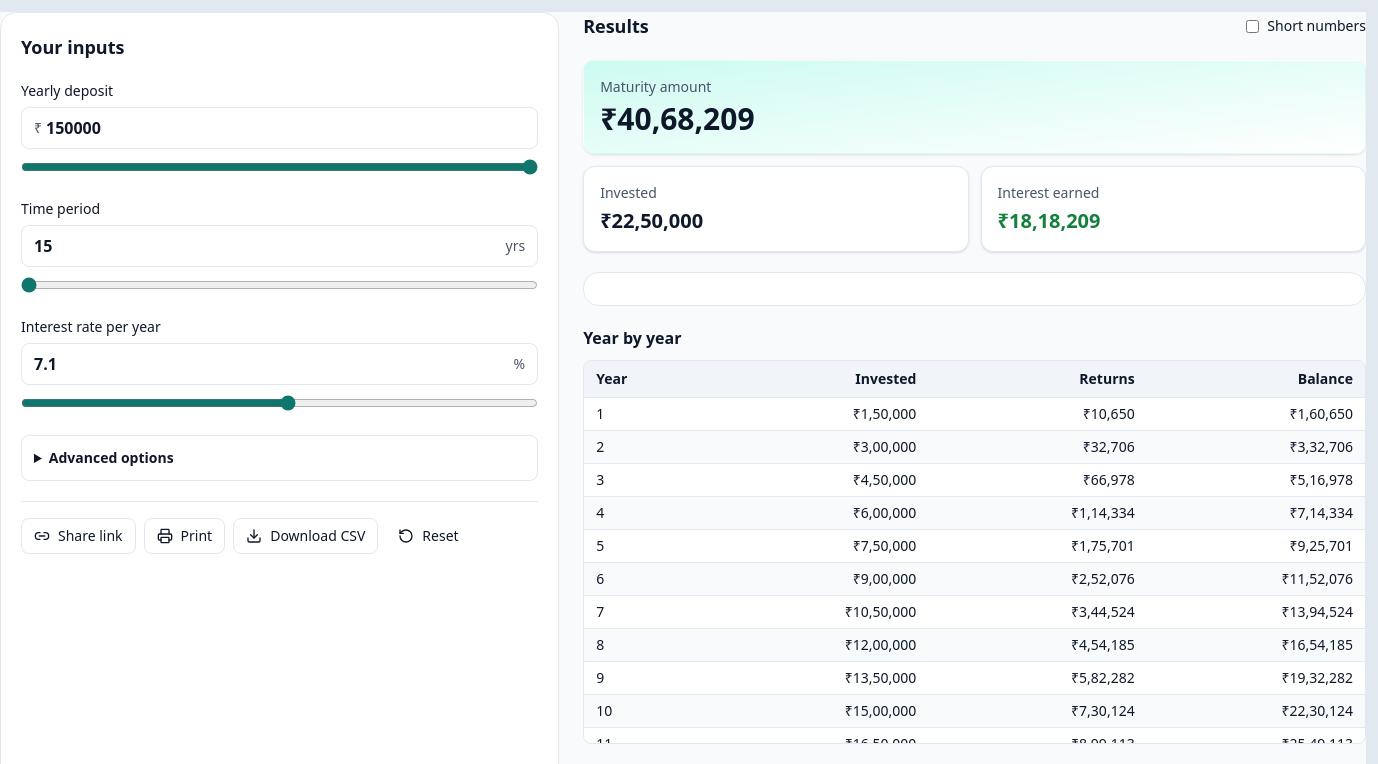
Test: CalculatorClient (other calculators) › shows the PPF limit warning only above the limit
Step 1. Replace the text in the number field labelled "Yearly deposit" with "140000" → (286, 128), box [46,108,525,148]
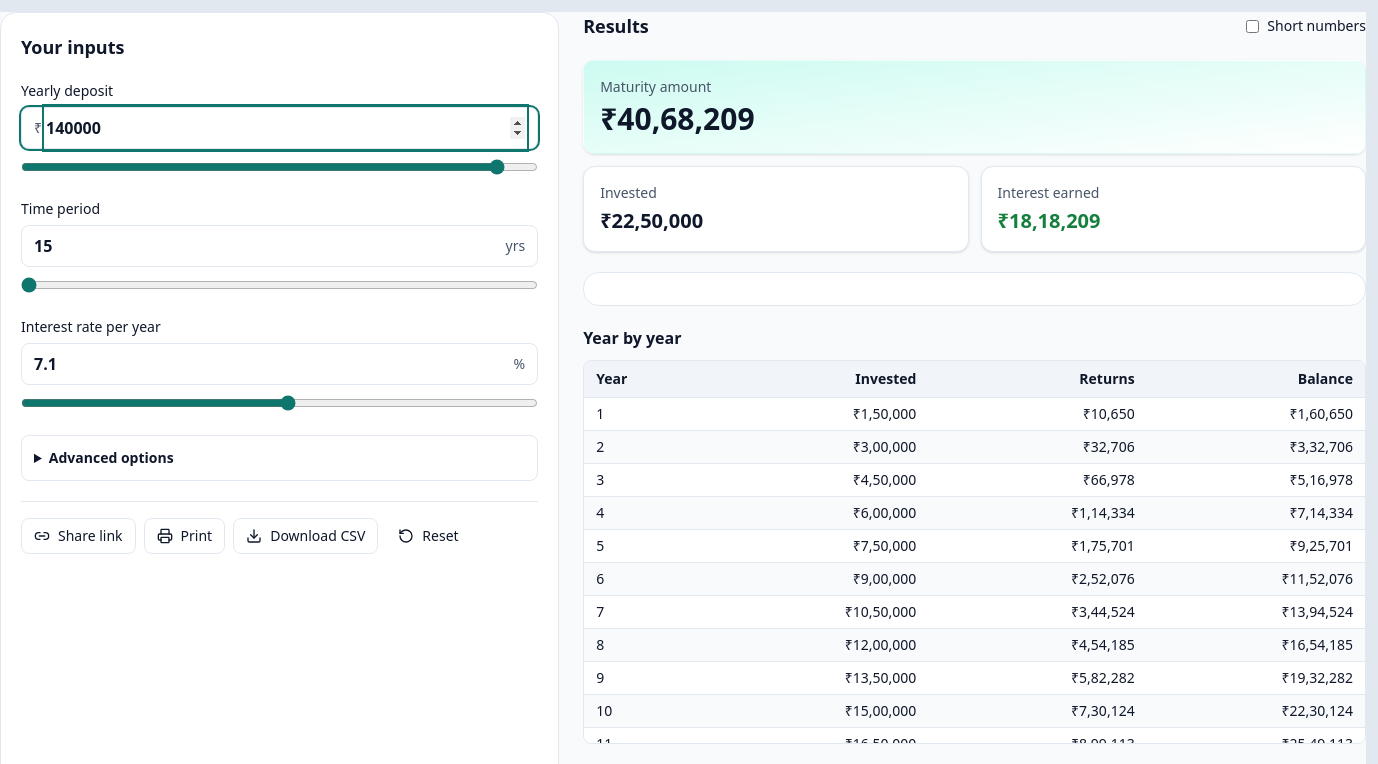
Check: the element with test id "card-maturity" is shown, box [583,60,1366,154]
Check: the text "yearly limit" is not shown
Step 2. Replace the text in the number field labelled "Yearly deposit" with "200000" → (286, 128), box [46,108,525,148]
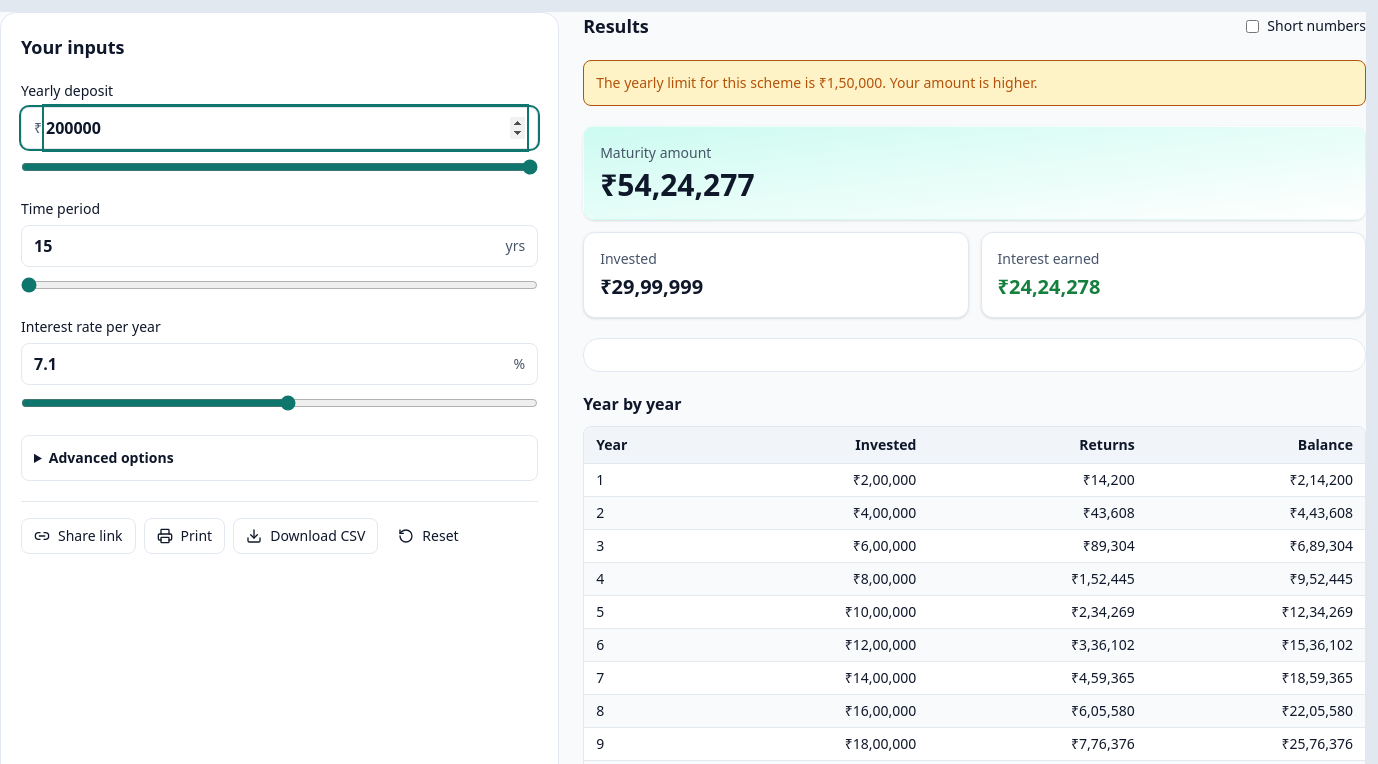
Check: the list item "yearly limit for this scheme is ₹1,50,000" is shown, box [596,73,1038,92]
